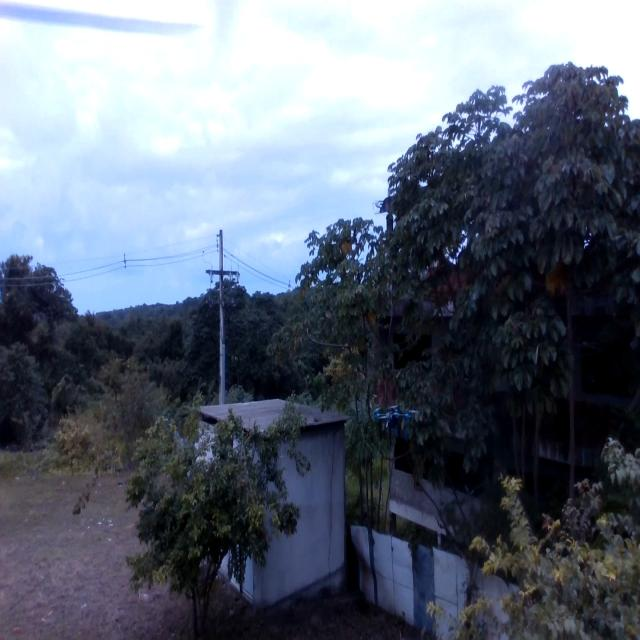-uav-: (364, 387, 427, 465)
